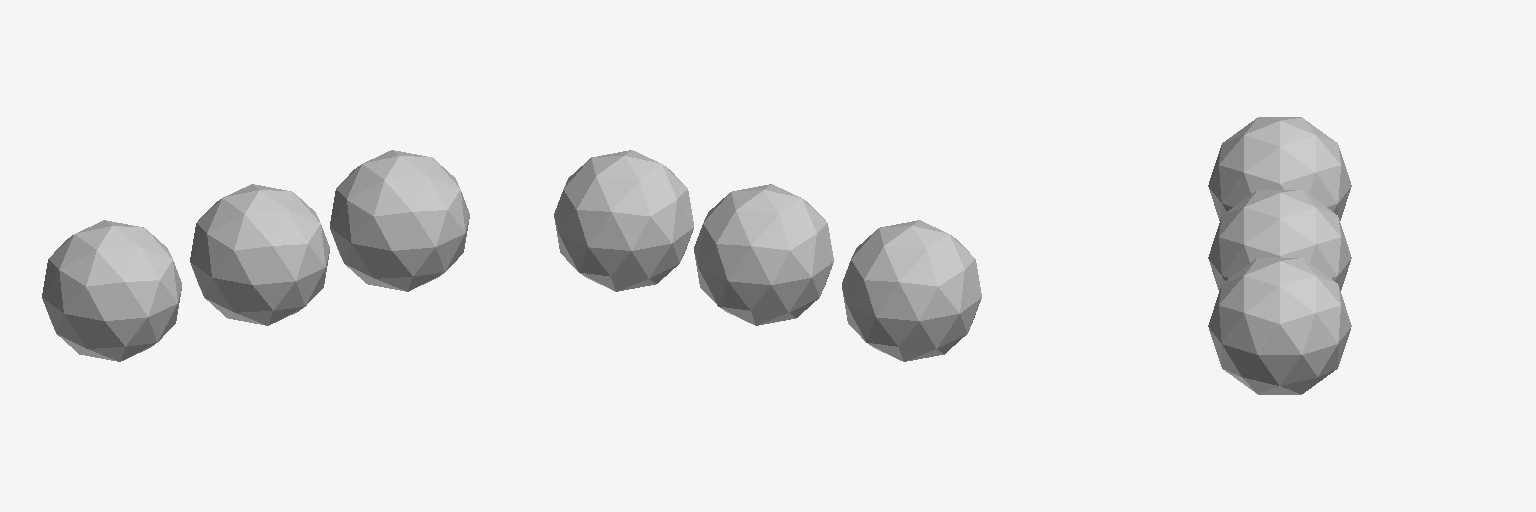
Rendered from spheres.obj.
3 renders of one model, left to right at view 1: azimuth 30°, elevation 25°; view 2: azimuth 150°, elevation 25°; view 3: azimuth 270°, elevation 25°, orthographic.
Parts seen in each view (by area): view 1: Icosphere.001, Icosphere.002, Icosphere; view 2: Icosphere.001, Icosphere.002, Icosphere; view 3: Icosphere.002, Icosphere.001, Icosphere.
Boxes of the visible parts, x1,y1,x2,y2 form: Icosphere.001: [42, 220, 181, 361]; Icosphere.002: [330, 150, 469, 291]; Icosphere: [190, 184, 329, 325]; Icosphere.001: [842, 220, 981, 361]; Icosphere.002: [554, 150, 693, 291]; Icosphere: [694, 184, 833, 325]; Icosphere.002: [1208, 258, 1351, 394]; Icosphere.001: [1208, 117, 1351, 220]; Icosphere: [1208, 190, 1351, 290].
Size of the model in its own units: 6.52 by 2 by 2.